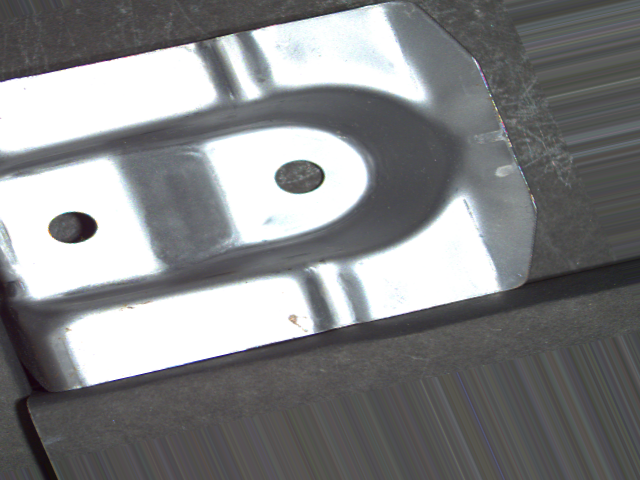defect: (266, 154, 333, 200)
